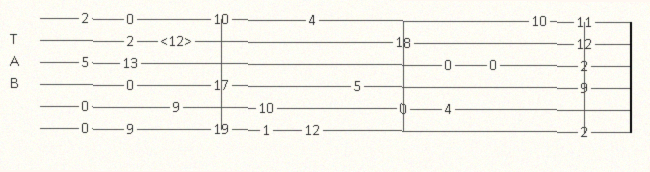0: (81, 123, 93, 137), (81, 101, 93, 115), (126, 13, 138, 27), (126, 79, 138, 93), (399, 101, 411, 115), (444, 57, 456, 71), (489, 57, 501, 71)
1: (262, 123, 274, 137)
10: (213, 13, 233, 27), (258, 101, 278, 115), (531, 13, 551, 27)
11: (576, 13, 596, 27)
12: (304, 123, 324, 137), (576, 35, 596, 49)
13: (122, 57, 142, 71)
17: (213, 79, 233, 93)
18: (395, 35, 415, 49)
19: (213, 123, 233, 137)
2: (81, 13, 93, 27), (126, 35, 138, 49), (580, 57, 592, 71), (580, 123, 592, 137)
4: (308, 13, 320, 27), (444, 101, 456, 115)
5: (81, 57, 93, 71), (353, 79, 365, 93)
9: (126, 123, 138, 137), (172, 101, 184, 115), (580, 79, 592, 93)
harmonic: (160, 35, 196, 49)
